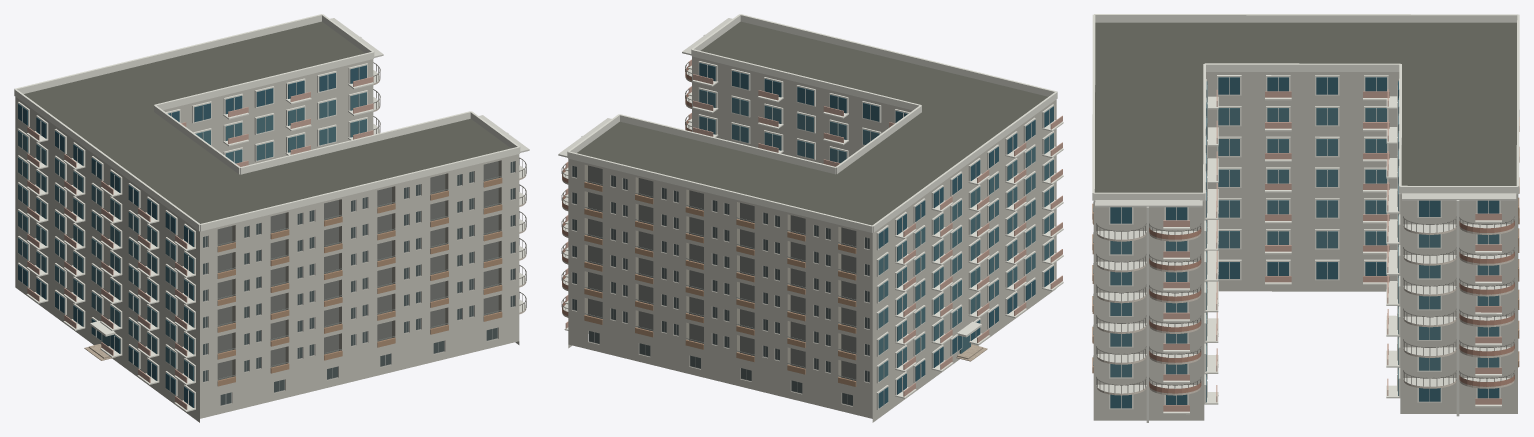
Rendered from chunk-dorm-way-759140884.glb.
3 views of the same model, side by side, from view 1: azimuth 30°, elevation 25°; view 2: azimuth 150°, elevation 25°; view 3: azimuth 270°, elevation 25° (orthographic). The views are drawn at different scales.
Visible parts, largest first — view 1: chunk-dorm-way-759140884; view 2: chunk-dorm-way-759140884; view 3: chunk-dorm-way-759140884.
Boxes of the visible parts, x1,y1,x2,y2 form: chunk-dorm-way-759140884: [14, 14, 529, 422]; chunk-dorm-way-759140884: [558, 14, 1063, 422]; chunk-dorm-way-759140884: [1092, 14, 1519, 422].
Bounding box in the file's own units: 45.03 × 24.4 × 41.56.
Materials: 18 (1 with a texture image).
